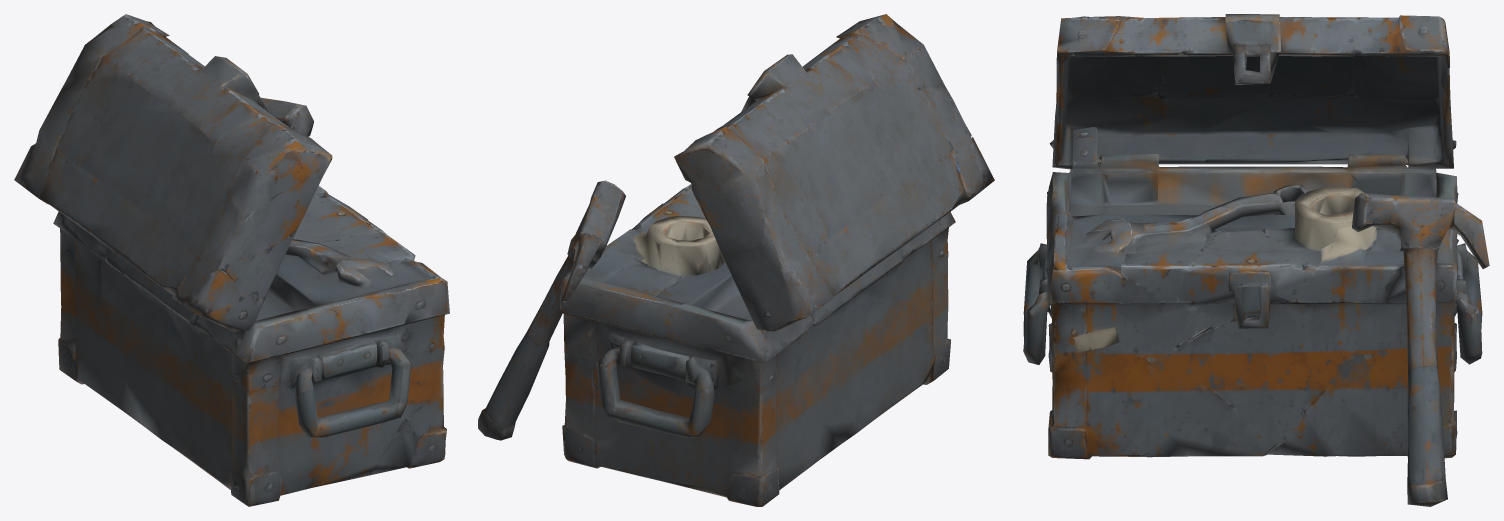
File: toolbox.glb
3 renders of one model, left to right at view 1: azimuth 30°, elevation 25°; view 2: azimuth 150°, elevation 25°; view 3: azimuth 270°, elevation 25°, orthographic. The views are drawn at different scales.
Parts seen in each view (by area): view 1: tripo_node_35ee5efd-c4a9-4eda-9a6e-91472fe1c981; view 2: tripo_node_35ee5efd-c4a9-4eda-9a6e-91472fe1c981; view 3: tripo_node_35ee5efd-c4a9-4eda-9a6e-91472fe1c981.
Part boxes in pixels (x1,y1,x2,y2): tripo_node_35ee5efd-c4a9-4eda-9a6e-91472fe1c981: (14,14,449,506); tripo_node_35ee5efd-c4a9-4eda-9a6e-91472fe1c981: (478,14,994,506); tripo_node_35ee5efd-c4a9-4eda-9a6e-91472fe1c981: (1023,14,1489,506).
Size of the model in its own units: 0.4926 by 0.5 by 0.5438.
Materials: 1 (1 with a texture image).
